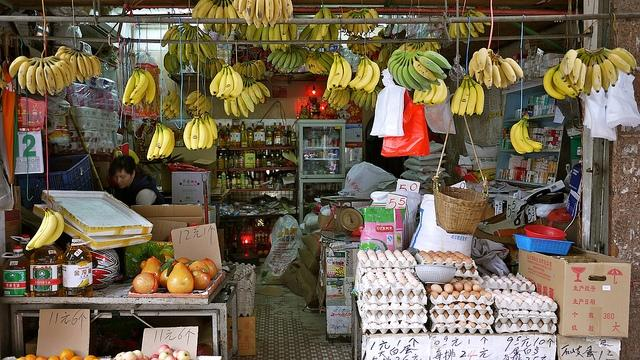apple: (158, 344, 170, 356), (176, 350, 190, 360), (122, 351, 136, 360), (158, 352, 172, 360), (132, 350, 143, 360), (162, 348, 173, 354), (172, 350, 180, 358), (149, 354, 159, 360), (164, 355, 176, 360), (115, 352, 126, 357), (143, 355, 149, 360)
banana: (34, 208, 58, 249), (543, 63, 566, 100), (27, 210, 49, 248), (44, 207, 64, 245), (604, 48, 638, 70), (413, 52, 444, 76), (44, 57, 64, 94), (416, 50, 452, 70), (46, 57, 70, 87), (601, 51, 630, 75), (50, 57, 74, 86), (598, 53, 618, 87), (562, 48, 586, 76), (138, 68, 156, 105), (402, 58, 422, 91), (522, 119, 544, 149), (417, 58, 448, 79), (353, 56, 372, 90), (510, 115, 527, 153), (514, 120, 534, 152), (412, 56, 437, 81), (498, 56, 524, 80), (553, 68, 575, 96), (362, 57, 380, 91), (130, 68, 149, 100), (348, 56, 366, 88), (568, 54, 586, 86), (450, 80, 466, 115), (9, 56, 34, 78), (162, 23, 184, 48), (193, 28, 210, 60), (18, 60, 36, 90), (228, 65, 244, 98), (470, 78, 484, 115), (575, 55, 589, 91), (122, 70, 136, 106), (83, 53, 101, 79), (26, 61, 40, 94), (230, 0, 247, 27), (158, 124, 172, 156), (331, 54, 344, 88), (339, 54, 352, 88), (162, 124, 175, 157), (210, 66, 224, 96), (221, 66, 234, 98), (147, 126, 159, 160), (466, 80, 477, 117), (178, 27, 190, 60), (227, 1, 240, 31), (192, 27, 204, 59), (183, 118, 195, 150), (44, 60, 56, 92), (216, 68, 228, 100), (201, 117, 213, 149), (592, 56, 602, 93), (252, 78, 270, 98), (153, 124, 163, 158), (85, 52, 102, 72), (223, 0, 232, 37), (497, 59, 508, 89), (388, 53, 403, 75), (190, 118, 200, 151), (198, 118, 208, 150), (468, 10, 484, 30), (36, 61, 46, 93), (436, 78, 448, 104), (304, 24, 318, 46), (191, 0, 208, 18), (432, 79, 444, 104), (242, 88, 254, 113), (492, 58, 502, 88), (80, 53, 92, 77), (214, 0, 223, 32), (237, 94, 249, 118), (250, 80, 264, 100), (252, 25, 264, 48), (476, 48, 488, 71), (281, 0, 293, 22), (76, 52, 86, 78), (341, 10, 354, 30), (130, 89, 146, 105), (313, 56, 326, 75), (458, 13, 468, 37), (360, 12, 370, 34), (245, 0, 256, 20), (328, 25, 338, 46), (318, 54, 331, 70), (316, 55, 328, 72), (70, 52, 78, 77), (256, 0, 265, 22), (265, 0, 274, 22), (273, 0, 282, 22), (466, 12, 476, 31), (346, 13, 356, 32), (272, 50, 285, 64), (294, 49, 306, 64), (76, 63, 85, 83), (267, 50, 282, 62), (472, 52, 480, 74), (166, 90, 177, 106), (283, 50, 292, 69), (185, 90, 202, 100), (336, 89, 346, 106), (246, 24, 256, 41), (262, 0, 268, 28), (468, 58, 476, 78), (363, 8, 379, 18), (278, 52, 288, 68), (354, 91, 366, 104), (206, 44, 217, 58), (210, 59, 217, 80), (292, 50, 300, 68), (359, 92, 368, 108), (184, 96, 200, 105), (133, 71, 140, 91), (413, 91, 423, 105), (333, 89, 342, 104), (203, 13, 210, 32), (468, 26, 479, 38), (358, 13, 364, 35), (417, 82, 432, 90), (46, 82, 54, 96), (246, 10, 253, 26), (424, 42, 435, 52), (55, 50, 72, 56), (406, 42, 416, 52), (60, 50, 74, 57), (323, 88, 331, 100), (280, 24, 288, 35), (172, 56, 178, 70), (247, 62, 252, 78), (322, 24, 328, 37), (207, 100, 212, 113), (237, 101, 241, 117), (242, 64, 247, 76), (413, 90, 418, 100), (274, 61, 278, 69), (307, 54, 315, 58), (356, 102, 360, 106), (450, 23, 452, 28)
